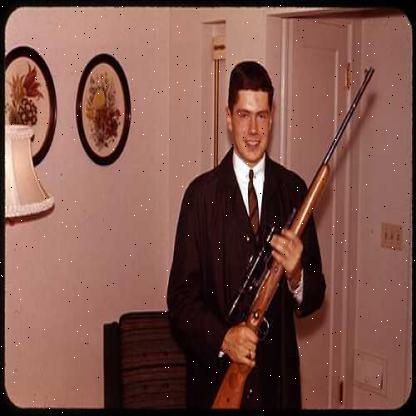rifle: (208, 41, 384, 415)
